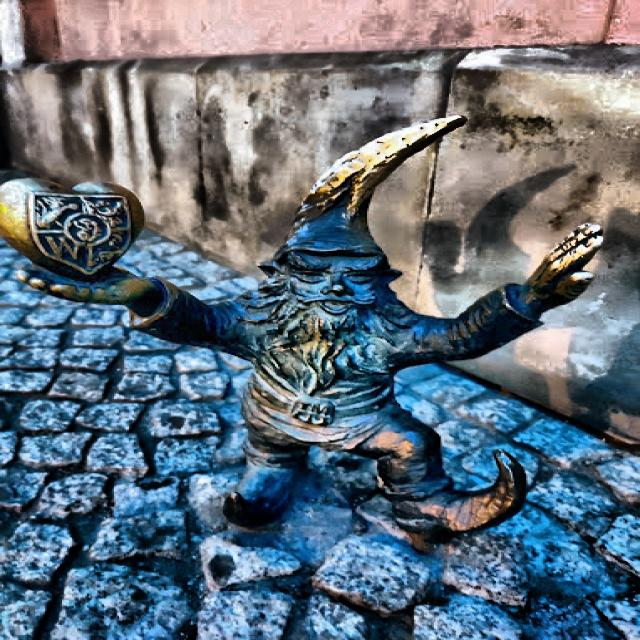WrocLovek: (0, 114, 618, 544)
